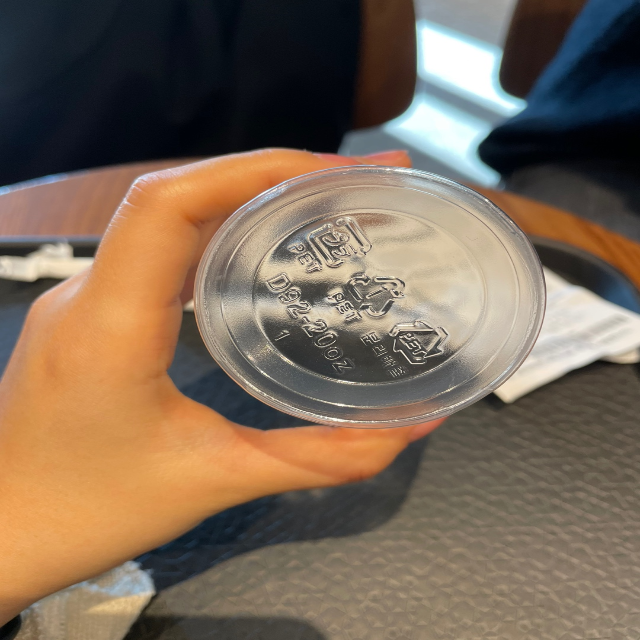pet: (287, 216, 373, 278), (363, 319, 454, 376), (323, 272, 407, 325)
